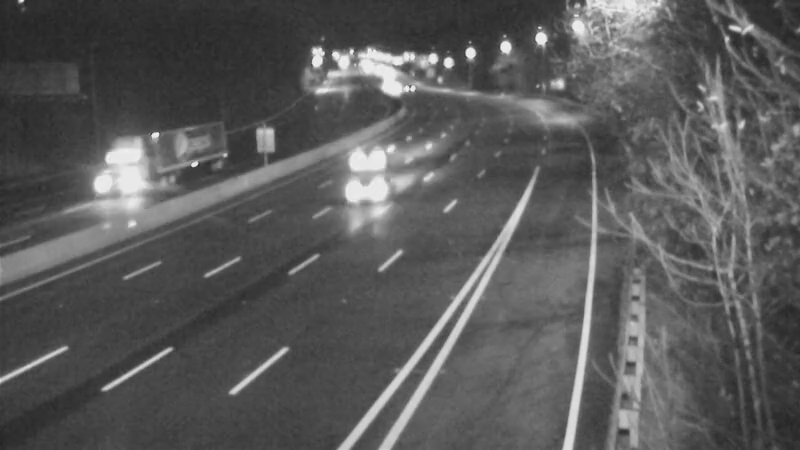vehicle: (329, 116, 409, 196), (326, 153, 406, 233), (101, 128, 181, 208), (387, 61, 437, 111)
